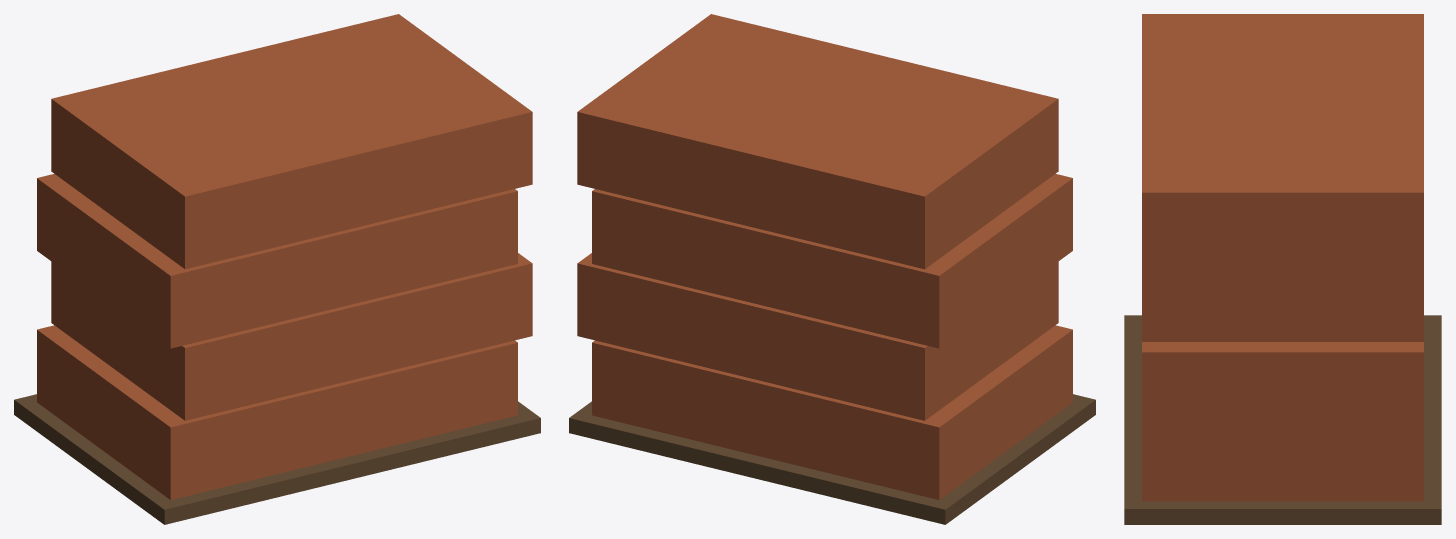
File: pilha_tijolo.glb
3 views of the same model, side by side, from view 1: azimuth 30°, elevation 25°; view 2: azimuth 150°, elevation 25°; view 3: azimuth 270°, elevation 25° (orthographic). The views are drawn at different scales.
Parts seen in each view (by area): view 1: pilha_tijolo; view 2: pilha_tijolo; view 3: pilha_tijolo.
Part boxes in pixels (x1,y1,x2,y2): pilha_tijolo: (14, 14, 540, 524); pilha_tijolo: (569, 14, 1095, 524); pilha_tijolo: (1124, 14, 1441, 524).
Size of the model in its own units: 1.3 by 1.04 by 0.9.
